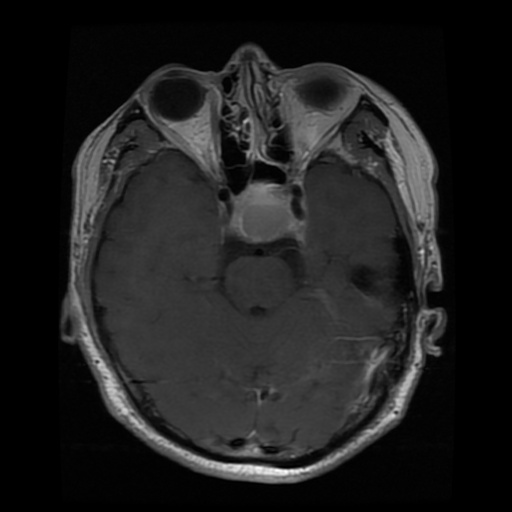pituitary: (230, 182, 305, 243)
